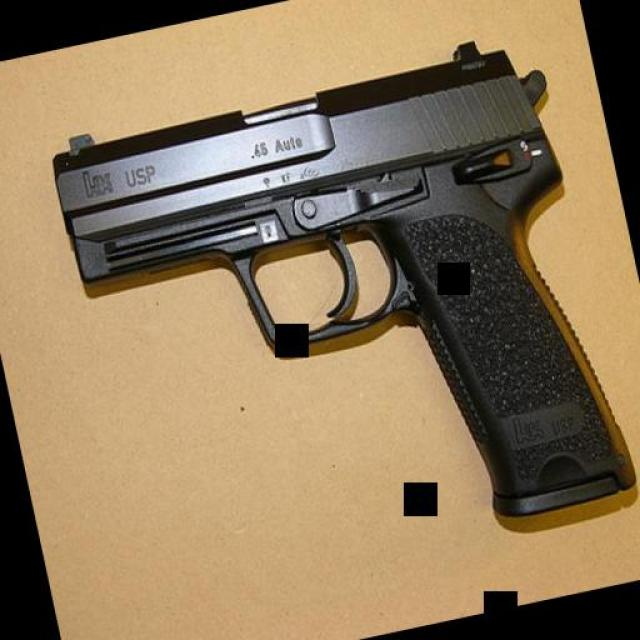gun: (41, 23, 640, 595)
